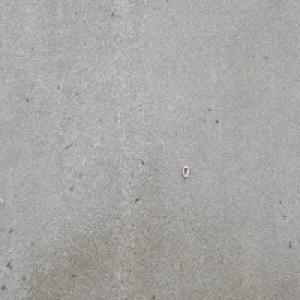Nut: (181, 165, 189, 178)
